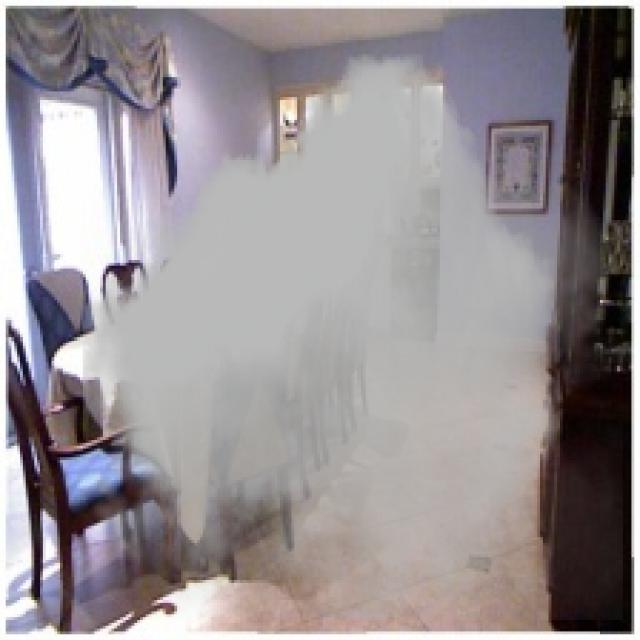smoke: (74, 54, 623, 620)
